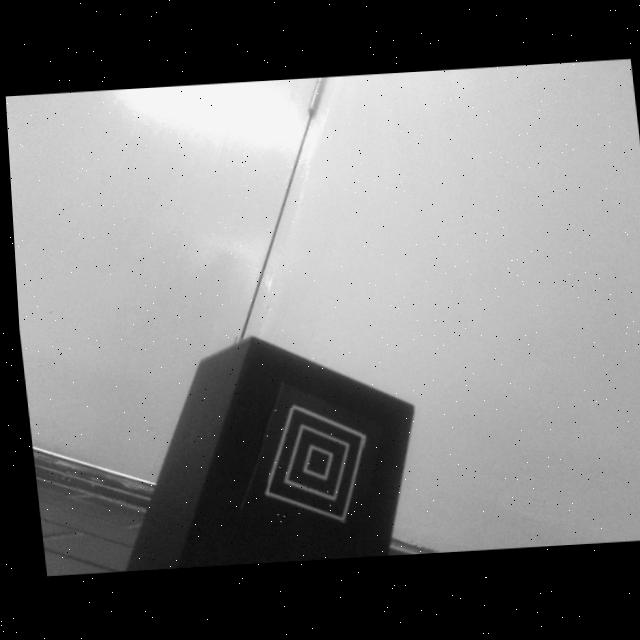BULLSEYE: (264, 409, 357, 522)
